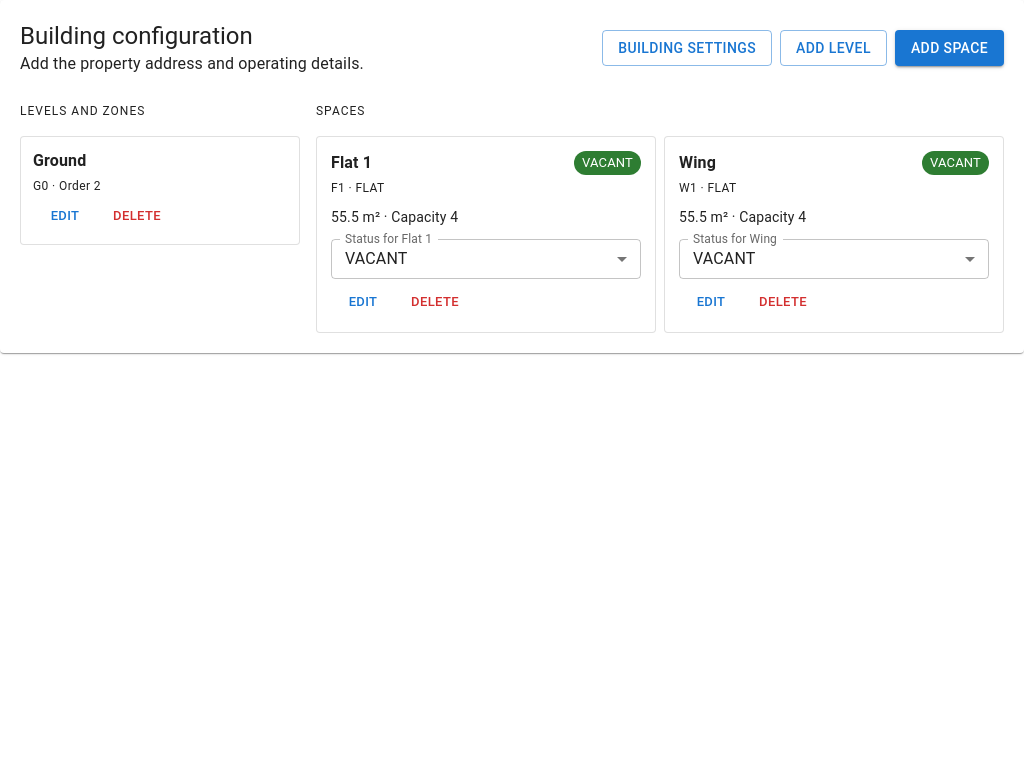
Scenario: validates a space edit before saving it
The width and height of the screenshot is (1024, 768).
Click the button with aria-label "Edit space Flat 1".
click(363, 302)  # box [331,287,395,318]
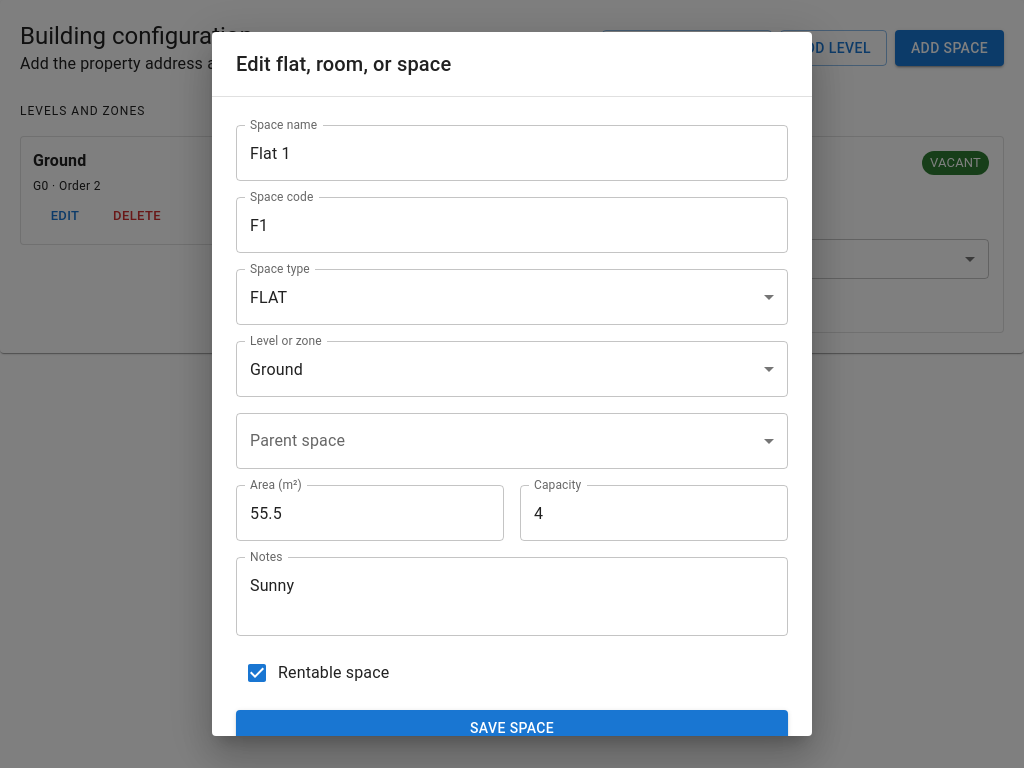
Clear the field labelled "Space name" at (512, 153), box [236,125,788,181]
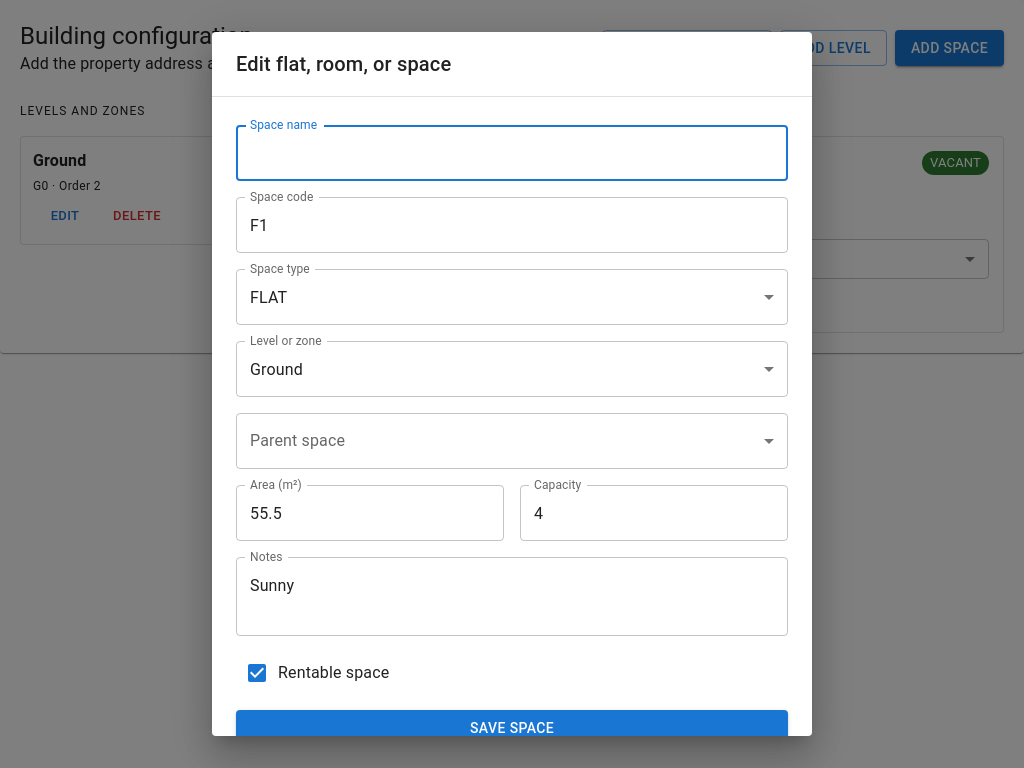
Click the button "Save space".
click(512, 728)  # box [236,710,788,746]
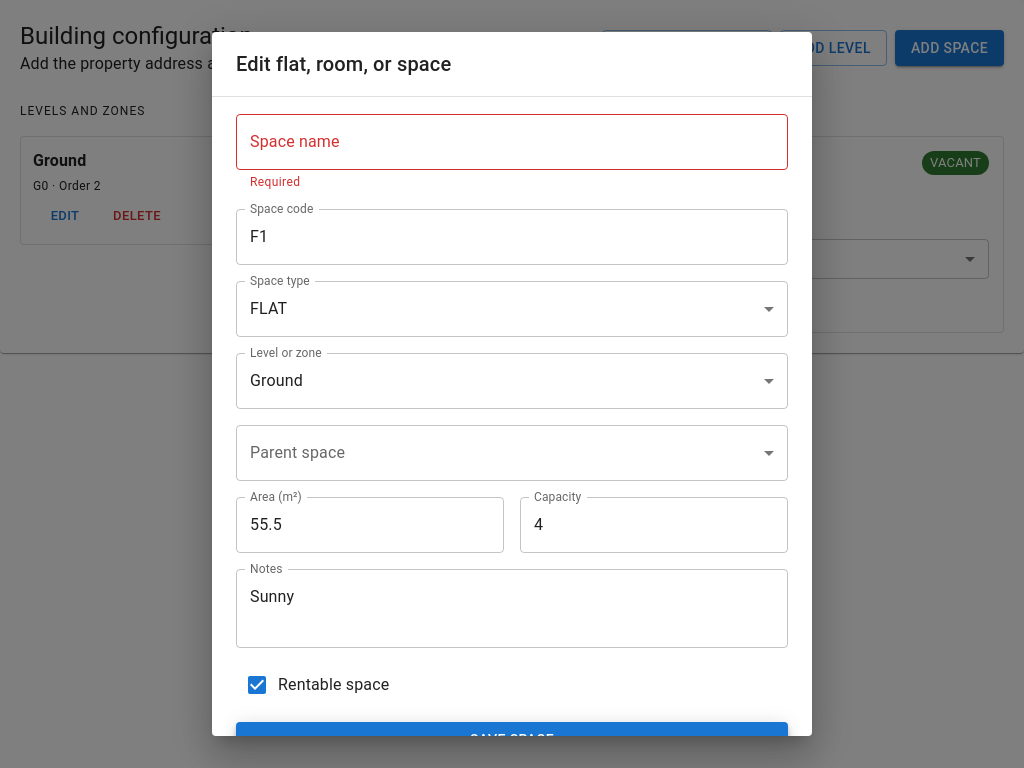
Now the text "Required" is shown, box [250,175,300,189]
